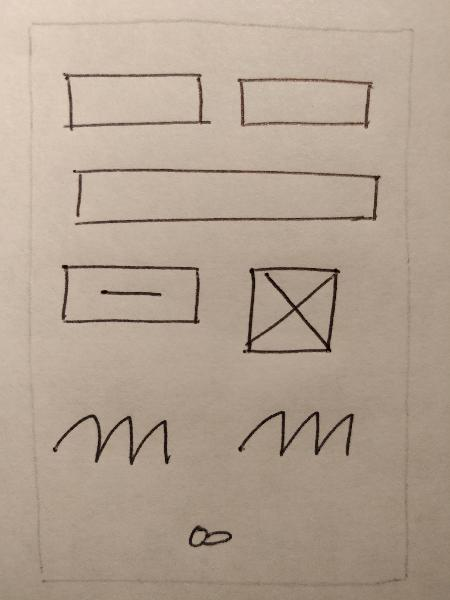button: (54, 257, 206, 335)
image: (239, 261, 347, 360)
switch: (174, 515, 241, 559)
text: (45, 404, 174, 475), (229, 401, 361, 467)
text_input: (65, 162, 385, 230), (55, 68, 217, 133), (232, 72, 374, 137)
